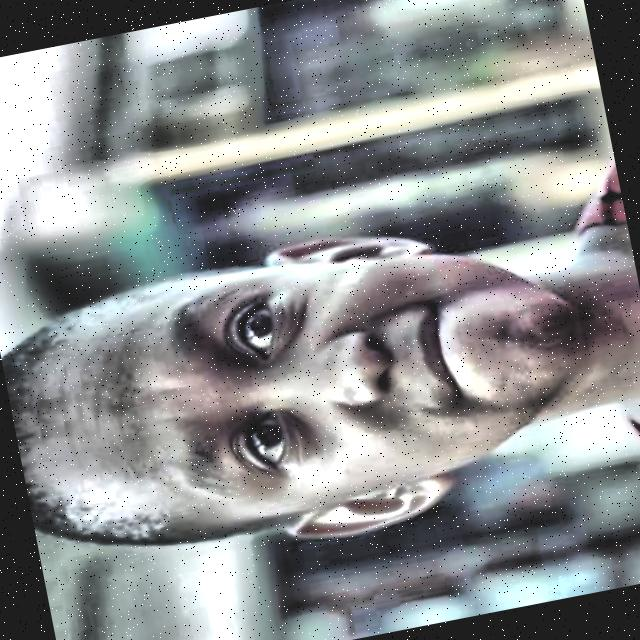neutral: (0, 183, 610, 602)
